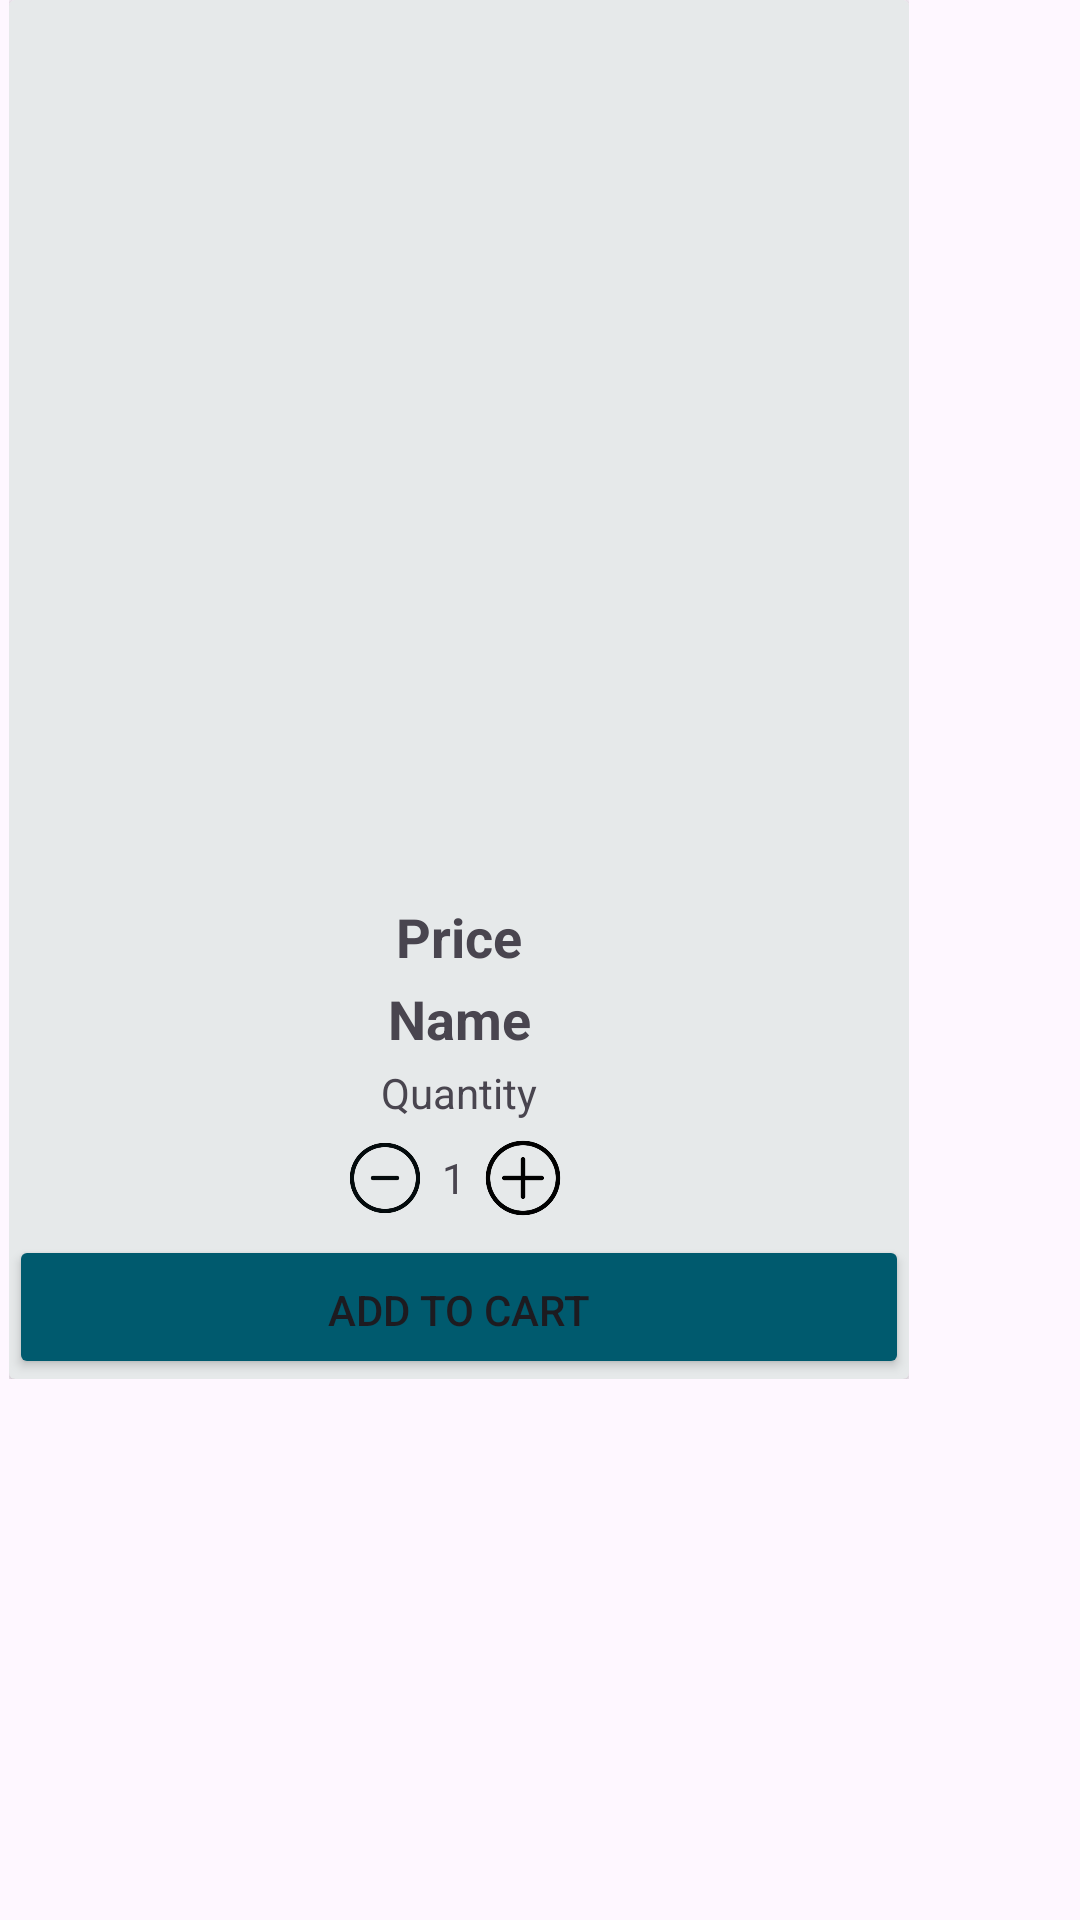

Where icons sit on this 1080w x 1920h app screen, as (x1, y1, x2, y2):
Remove Icon: (350, 1143, 420, 1213)
